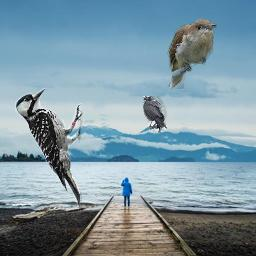Crow: (143, 96, 167, 133)
Cuckoo: (167, 18, 217, 89)
Woodpecker: (14, 88, 85, 215)
